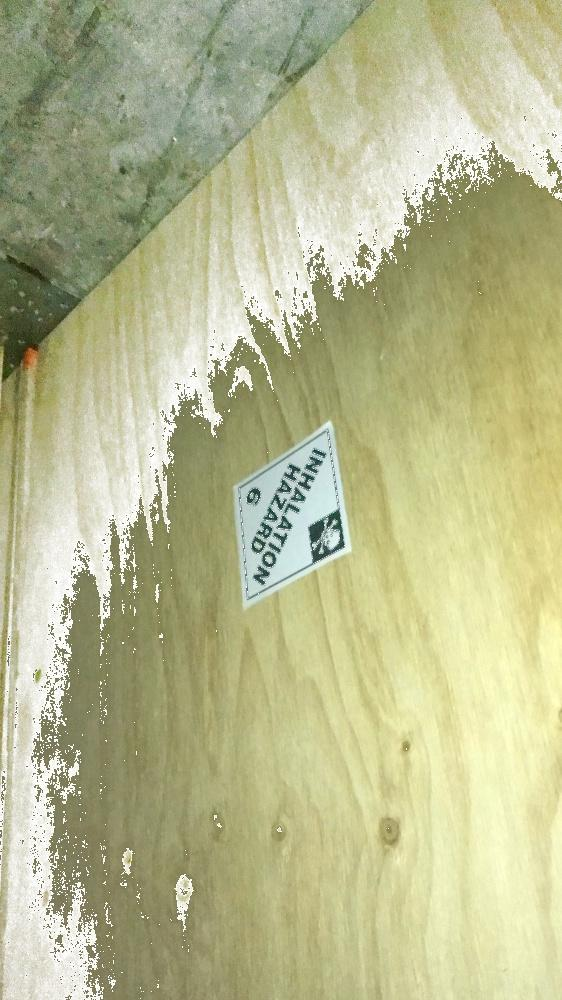poison: (232, 416, 352, 609)
